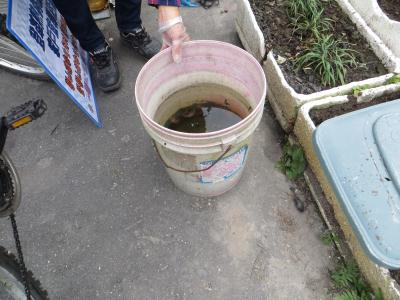bucket: (130, 36, 270, 202)
plate: (310, 98, 400, 271)
styrofoam: (235, 1, 399, 130)
